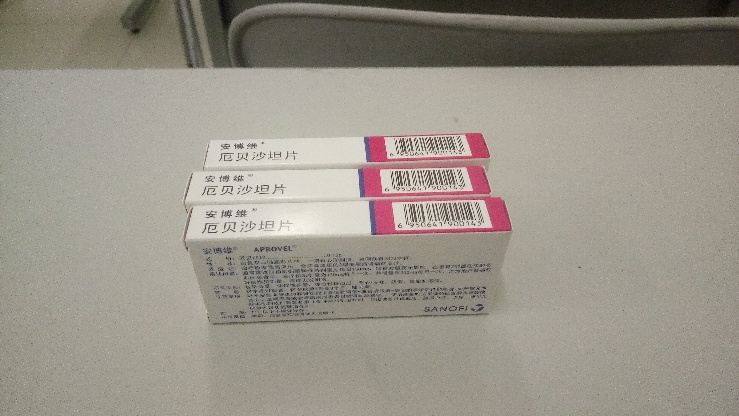pillbox: (183, 202, 512, 323), (207, 133, 492, 160), (183, 172, 496, 195)
